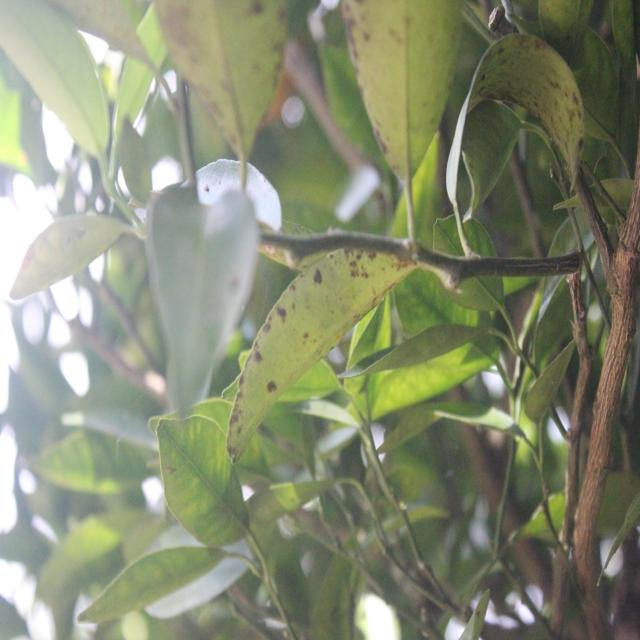melanose: (211, 235, 416, 467), (434, 37, 594, 212), (146, 0, 291, 162), (343, 0, 457, 191)
